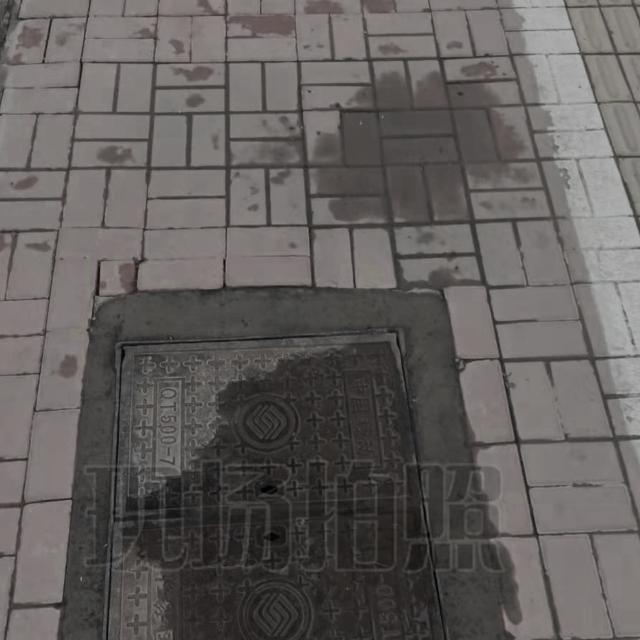good: (92, 324, 466, 640)
